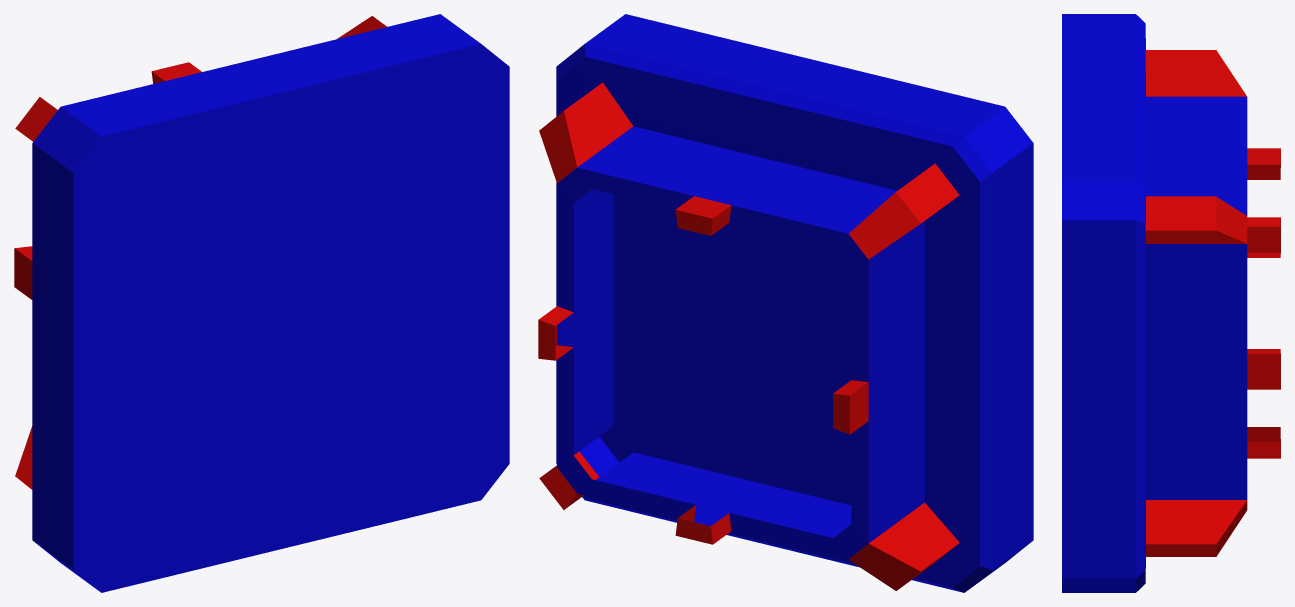
File: PilierFoot.fbx
The picture shows the model from 3 angles, left to right: view 1: azimuth 30°, elevation 25°; view 2: azimuth 150°, elevation 25°; view 3: azimuth 270°, elevation 25°; orthographic projection. The views are drawn at different scales.
Parts seen in each view (by area): view 1: PilierFoot; view 2: PilierFoot; view 3: PilierFoot.
Boxes of the visible parts, x1,y1,x2,y2 form: PilierFoot: (14, 14, 509, 592); PilierFoot: (538, 14, 1033, 592); PilierFoot: (1062, 14, 1280, 592).
Size of the model in its own units: 80.66 by 80.66 by 38.83.
